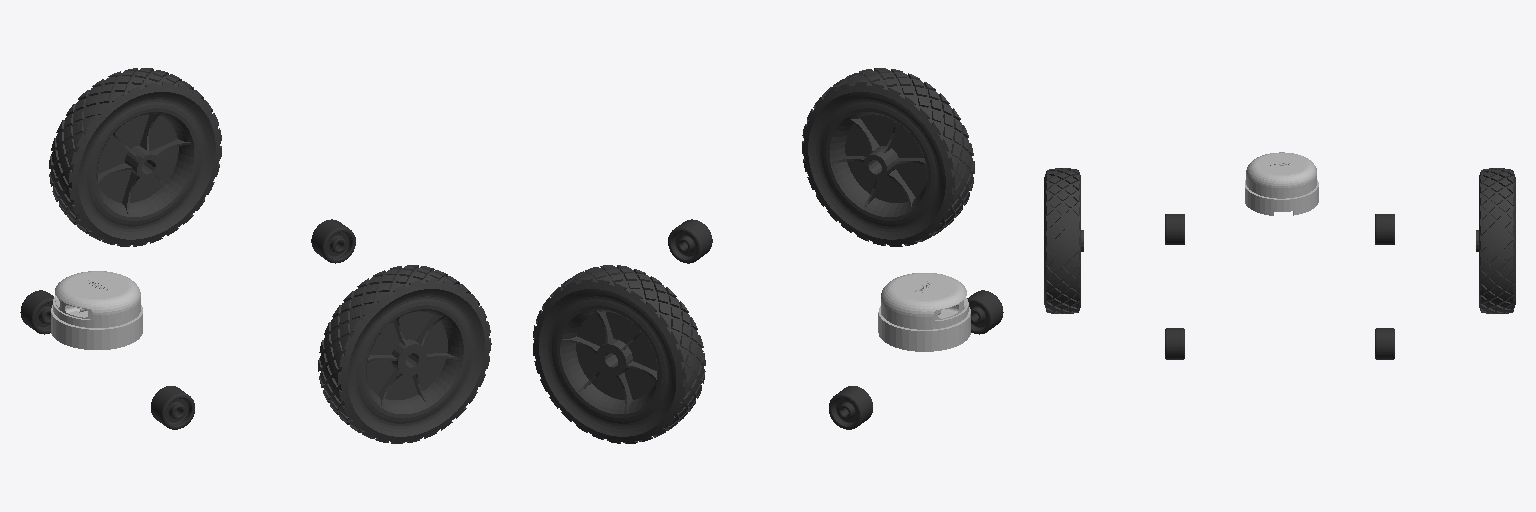
The robot description file, URDF, robot "twowheelbot":
<?xml version="1.0" ?>
<robot xmlns:xacro="http://www.ros.org/wiki/xacro" name="twowheelbot">


  <link name="base_footprint"/>

  <joint name="chassis_joint" type="fixed">
    <origin xyz="0.0 0.0 0.0" rpy="0.0 0.0 0.0"/>
    <parent link="base_footprint"/>
    <child link="base_link"/>
  </joint>

  <link name="base_link">
    <visual>
      <origin rpy="0 0 0" xyz="0 0 0"/>
      <geometry>
        <mesh filename="package://twowheelbot/meshes/base_link.STL"/>
      </geometry>
      <material name="">
        <color rgba="0.792156862745098 0.819607843137255 0.933333333333333 1"/>
      </material>
    </visual>
    <collision>
      <origin rpy="0 0 0" xyz="0 0 0"/>
      <geometry>
        <mesh filename="package://twowheelbot/meshes/base_link.STL"/>
      </geometry>
    </collision>
    <inertial>
      <origin rpy="0 0 0" xyz="0 0 0"/>
      <mass value="5.65793860989747"/>
      <inertia ixx="0.0209088158258865" ixy="-1.21570941586779E-06" ixz="-4.74576464436689E-07" iyy="0.0337922520357315" iyz="-6.19936087950491E-09" izz="0.0530796720169266"/>
    </inertial>
  </link>
  <!-- Wheels -->
  <link name="left_wheel">
    <visual>
      <origin rpy="0 0 0" xyz="0 0 0"/>
      <geometry>
        <mesh filename="package://twowheelbot/meshes/left_wheel.STL"/>
      </geometry>
      <material name="">
        <color rgba="0.294117647058824 0.294117647058824 0.294117647058824 1"/>
      </material>
    </visual>
    <collision>
      <origin rpy="0 0 0" xyz="0 0 0"/>
      <geometry>
        <mesh filename="package://twowheelbot/meshes/left_wheel.STL"/>
      </geometry>
    </collision>
    <inertial>
      <origin rpy="0 0 0" xyz="0 0 0"/>
      <mass value="0.408827"/>
      <inertia ixx="0.000714801628" ixy="1.37055E-13" ixz="-6.32708E-14" iyy="0.000714802" iyz="-1.37618E-13" izz="0.00136124"/>
    </inertial>
  </link>
  <joint name="joint_tire_left" type="continuous">
    <origin rpy="-1.5708 0 0" xyz="0 0.234 0.0304999999999984"/>
    <parent link="base_link"/>
    <child link="left_wheel"/>
    <axis xyz="0 0 -1"/>
  </joint>

  <link name="right_wheel">
    <visual>
      <origin rpy="0 0 0" xyz="0 0 0"/>
      <geometry>
        <mesh filename="package://twowheelbot/meshes/right_wheel.STL"/>
      </geometry>
      <material name="">
        <color rgba="0.294117647058824 0.294117647058824 0.294117647058824 1"/>
      </material>
    </visual>
    <collision>
      <origin rpy="0 0 0" xyz="0 0 0"/>
      <geometry>
        <mesh filename="package://twowheelbot/meshes/right_wheel.STL"/>
      </geometry>
    </collision>
    <inertial>
      <origin rpy="0 0 0" xyz="0 0 0"/>
      <mass value="0.408827478747941"/>
      <inertia ixx="0.000714801628692349" ixy="-4.98728780255981E-13" ixz="-8.55481626564712E-14" iyy="0.000714801628470818" iyz="1.25253999026371E-13" izz="0.00136123756937644"/>
    </inertial>
  </link>
  <joint name="joint_tire_right" type="continuous">
    <origin rpy="1.5707963267948966 0 0" xyz="0 -0.234 0.0304999999999984"/>
    <parent link="base_link"/>
    <child link="right_wheel"/>
    <axis xyz="0 0 -1"/>
  </joint>

  <!-- Caster Wheels -->
  <link name="rf_caster">
    <visual>
      <origin rpy="0 0 0" xyz="0 0 0"/>
      <geometry>
        <mesh filename="package://twowheelbot/meshes/rf_caster.STL"/>
      </geometry>
      <material name="">
        <color rgba="0.250980392156863 0.250980392156863 0.250980392156863 1"/>
      </material>
    </visual>
    <collision>
      <origin rpy="0 0 0" xyz="0 0 0"/>
      <geometry>
        <mesh filename="package://twowheelbot/meshes/rf_caster.STL"/>
      </geometry>
    </collision>
    <inertial>
      <origin rpy="0 0 0" xyz="0 0 0"/>
      <mass value="0.0131302037781976"/>
      <inertia ixx="1.31770325266958E-06" ixy="-5.29431199926978E-23" ixz="2.24993126614424E-22" iyy="1.31770325266958E-06" iyz="-1.18236702448809E-22" izz="1.89555098822308E-06"/>
    </inertial>
  </link>
  <joint name="rf_caster_joint" type="continuous">
    <origin rpy="1.5707963267948966 0 0" xyz="0.121999999999999 -0.107 -0.028"/>
    <parent link="base_link"/>
    <child link="rf_caster"/>
    <axis xyz="0 0 1"/>
  </joint>
  <link name="lf_caster">
    <visual>
      <origin rpy="0 0 0" xyz="0 0 0"/>
      <geometry>
        <mesh filename="package://twowheelbot/meshes/lf_caster.STL"/>
      </geometry>
      <material name="">
        <color rgba="0.250980392156863 0.250980392156863 0.250980392156863 1"/>
      </material>
    </visual>
    <collision>
      <origin rpy="0 0 0" xyz="0 0 0"/>
      <geometry>
        <mesh filename="package://twowheelbot/meshes/lf_caster.STL"/>
      </geometry>
    </collision>
    <inertial>
      <origin rpy="0 0 0" xyz="0 0 0"/>
      <mass value="0.0131302037781976"/>
      <inertia ixx="1.31770325266958E-06" ixy="0" ixz="1.52201232709757E-22" iyy="1.31770325266958E-06" iyz="2.05476734334866E-21" izz="1.89555098822308E-06"/>
    </inertial>
  </link>
  <joint name="lf_caster_joint" type="continuous">
    <origin rpy="-1.5707963267948966 0 0" xyz="0.121999999999999 0.107 -0.028"/>
    <parent link="base_link"/>
    <child link="lf_caster"/>
    <axis xyz="0 0 1"/>
  </joint>
  <link name="rr_caster">
    <visual>
      <origin rpy="0 0 0" xyz="0 0 0"/>
      <geometry>
        <mesh filename="package://twowheelbot/meshes/rr_caster.STL"/>
      </geometry>
      <material name="">
        <color rgba="0.250980392156863 0.250980392156863 0.250980392156863 1"/>
      </material>
    </visual>
    <collision>
      <origin rpy="0 0 0" xyz="0 0 0"/>
      <geometry>
        <mesh filename="package://twowheelbot/meshes/rr_caster.STL"/>
      </geometry>
    </collision>
    <inertial>
      <origin rpy="0 0 0" xyz="0 0 0"/>
      <mass value="0.0131302037781976"/>
      <inertia ixx="1.31770325266958E-06" ixy="-9.24232433334024E-37" ixz="-5.29395592033938E-23" iyy="1.31770325266958E-06" iyz="2.04611747395592E-21" izz="1.89555098822309E-06"/>
    </inertial>
  </link>
  <joint name="rr_caster_joint" type="continuous">
    <origin rpy="1.5707963267948966 0 0" xyz="-0.154 -0.107 -0.028"/>
    <parent link="base_link"/>
    <child link="rr_caster"/>
    <axis xyz="0 0 1"/>
  </joint>
  <link name="lr_caster">
    <visual>
      <origin rpy="0 0 0" xyz="0 0 0"/>
      <geometry>
        <mesh filename="package://twowheelbot/meshes/lr_caster.STL"/>
      </geometry>
      <material name="">
        <color rgba="0.25098 0.25098 0.25098 1"/>
      </material>
    </visual>
    <collision>
      <origin rpy="0 0 0" xyz="0 0 0"/>
      <geometry>
        <mesh filename="package://twowheelbot/meshes/lr_caster.STL"/>
      </geometry>
    </collision>
    <inertial>
      <origin rpy="0 0 0" xyz="0 0 0"/>
      <mass value="0.01313"/>
      <inertia ixx="1.3177E-06" ixy="7.5232E-37" ixz="1.125E-22" iyy="1.3177E-06" iyz="2.0589E-21" izz="1.8956E-06"/>
    </inertial>
  </link>
  <joint name="lr_caster_joint" type="continuous">
    <origin rpy="-1.5707963267948966 0 0" xyz="-0.154 0.107 -0.028"/>
    <parent link="base_link"/>
    <child link="lr_caster"/>
    <axis xyz="0 0 1"/>
  </joint>
  
  <!-- <gazebo reference="base_link">
    <material>Gazebo/Green</material>
  </gazebo> -->
  <!-- <gazebo reference="left_wheel">
    <material>Gazebo/Black</material>
  </gazebo> -->
  <!-- <gazebo reference="right_wheel">
    <material>Gazebo/Black</material>
  </gazebo> -->
  <!-- <gazebo reference="lf_caster">
    <material>Gazebo/Orange</material>
    <mu1 value="0.001"/>
    <mu2 value="0.001"/>
  </gazebo> -->
  <!-- <gazebo reference="lr_caster">
    <material>Gazebo/Orange</material>
    <mu1 value="0.001"/>
    <mu2 value="0.001"/>
  </gazebo> -->
  <!-- <gazebo reference="rf_caster">
    <material>Gazebo/Orange</material>
    <mu1 value="0.001"/>
    <mu2 value="0.001"/>
  </gazebo> -->
  <!-- <gazebo reference="rr_caster">
    <material>Gazebo/Orange</material>
    <mu1 value="0.001"/>
    <mu2 value="0.001"/>
  </gazebo> -->
  <!-- Lidar Joint -->
  <link name="lidar_link">
    <visual>
      <origin rpy="0 0 0" xyz="0 0 0"/>
      <geometry>
        <mesh filename="package://twowheelbot/meshes/lidar_link.STL"/>
      </geometry>
      <material name="">
        <color rgba="0.75294 0.75294 0.75294 0.4"/>
      </material>
    </visual>
    <collision>
      <origin rpy="0 0 0" xyz="0 0 0"/>
      <geometry>
        <mesh filename="package://twowheelbot/meshes/lidar_link.STL"/>
      </geometry>
    </collision>
    <inertial>
      <origin rpy="0 0 0" xyz="0 0 0"/>
      <mass value="0.16538"/>
      <inertia ixx="7.519E-05" ixy="-4.8472E-08" ixz="2.886E-08" iyy="7.8865E-05" iyz="-2.1848E-06" izz="0.00010995"/>
    </inertial>
  </link>
  <joint name="lidar_link_joint" type="fixed">
    <origin rpy="0 0 -1.5164" xyz="-0.165 0.0016853 0"/>
    <parent link="base_link"/>
    <child link="lidar_link"/>
    <!-- <axis xyz="0 0 1"/> -->
  </joint>
  <!-- <gazebo reference="lidar_link">
    <material>Gazebo/Yellow</material>
    <sensor name="laser" type="ray">
      <pose>0 0 0 0 0 0</pose>
      <visualize>false</visualize>
      <update_rate>10</update_rate>
      <ray>
        <scan>
          <horizontal>
            <samples>360</samples>
            <resolution>0.5</resolution>
            <min_angle>-3.14</min_angle>
            <max_angle>0</max_angle>
          </horizontal>
        </scan>
        <range>
          <min>0.3</min>
          <max>12</max>
          <resoluion>0.05</resoluion>
        </range>
        <noise>
                <type>gaussian</type>
                <mean>0.0</mean>
                <stddev>0.01</stddev>
            </noise>
      </ray>
      <plugin filename="libgazebo_ros_ray_sensor.so" name="laser_controller">
        <ros>
          <namespace></namespace>
          <remapping>~/out:=scan</remapping>
        </ros>
        <output_type>sensor_msgs/LaserScan</output_type>
        <frame_name>lidar_link</frame_name>
      </plugin>
    </sensor>
  </gazebo> -->
  <!-- <gazebo>
    <plugin name = "diff_drive" filename = "libgazebo_ros_diff_drive.so">
      <ros>
        <namespace></namespace>
        <remapping>/tf:=tf</remapping>
        <remapping>/tf_static:=tf_static</remapping>
      </ros>
      <left_joint>joint_tire_left</left_joint>
      <right_joint>joint_tire_right</right_joint>
      <wheel_separation>0.468</wheel_separation>
      <wheel_diameter>0.07458</wheel_diameter>
      <max_wheel_torque>1200</max_wheel_torque>
      <max_wheel_acceleration>100.0</max_wheel_acceleration>
      <command_topic>cmd_vel</command_topic>
      <odometry_frame>odom</odometry_frame>
      <robot_base_frame>base_footprint</robot_base_frame>
      <publish_odom>true</publish_odom>
      <publish_odom_tf>true</publish_odom_tf>
      <publist_wheel_tf>true</publist_wheel_tf>
    </plugin>
  </gazebo> -->
</robot>

--- Render facts (derived) ---
Views: 3 orthographic renders of the robot side by side, from view 1: azimuth 30°, elevation 25°; view 2: azimuth 150°, elevation 25°; view 3: azimuth 270°, elevation 25°.
Model twowheelbot with 9 links and 8 joints (6 continuous, 2 fixed), rooted at base_footprint, posed all joints at 0.
Links seen in each view (by area): view 1: right_wheel, left_wheel, lidar_link, rr_caster, lf_caster, lr_caster; view 2: right_wheel, left_wheel, lidar_link, lr_caster, rf_caster, rr_caster; view 3: left_wheel, right_wheel, lidar_link, rf_caster, lf_caster, rr_caster, lr_caster.
Boxes of the visible links, x1,y1,x2,y2 form: right_wheel: (318, 265, 491, 443); left_wheel: (49, 68, 221, 246); lidar_link: (51, 271, 142, 349); rr_caster: (151, 386, 194, 429); lf_caster: (311, 219, 355, 263); lr_caster: (20, 290, 53, 334); right_wheel: (802, 68, 974, 246); left_wheel: (533, 265, 705, 443); lidar_link: (878, 273, 970, 351); lr_caster: (829, 386, 872, 429); rf_caster: (668, 219, 712, 263); rr_caster: (967, 290, 1003, 334); left_wheel: (1476, 168, 1515, 313); right_wheel: (1044, 168, 1083, 313); lidar_link: (1245, 152, 1318, 215); rf_caster: (1165, 328, 1184, 359); lf_caster: (1375, 328, 1394, 359); rr_caster: (1165, 214, 1184, 244); lr_caster: (1375, 214, 1394, 244).
Size in the robot's own frame: 0.3392 by 0.48 by 0.1492 metres.
Meshes: 8 distinct files referenced, 7 mesh visuals loaded (7 binary STL); not drawn: 1 (reference not matched to a file when rendering).
